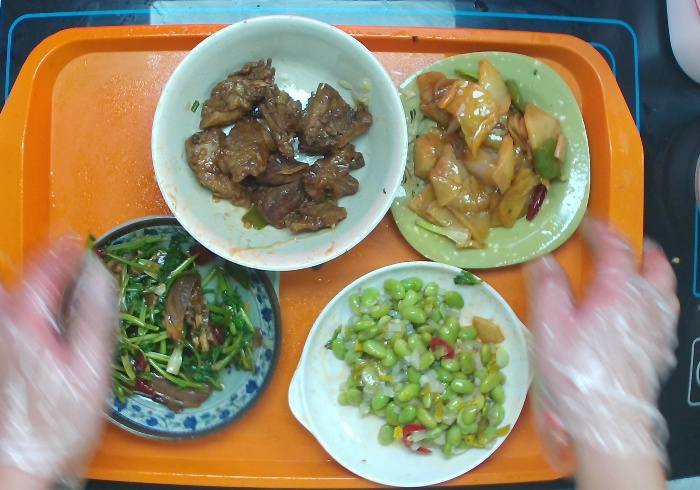NLDX-Bai_Se_Shuang_Er_Die: (285, 259, 545, 490)
NLDX-Bai_Se_Yuan_Wan: (147, 11, 410, 281)
NLDX-Lv_Hua_Fang_Die: (382, 45, 595, 275)
NLDX-Qing_Hua_Shuang_Er_Die: (54, 203, 284, 448)
